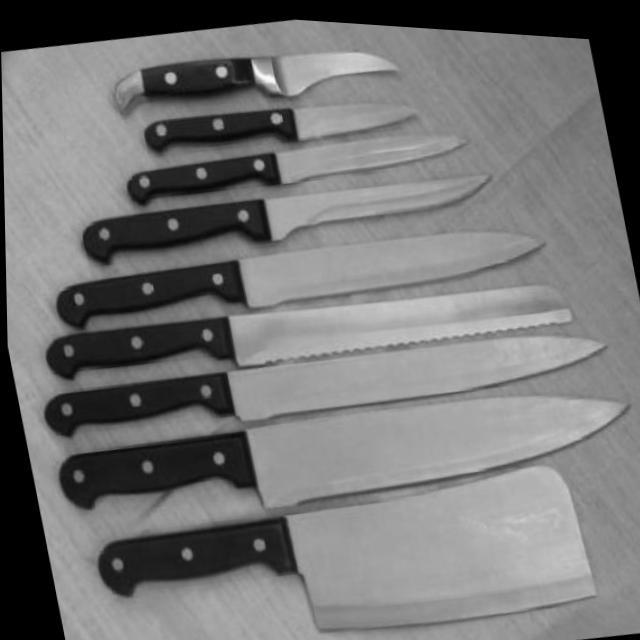weapon: (46, 341, 640, 559), (82, 426, 598, 640), (34, 285, 616, 471), (36, 239, 576, 414), (45, 186, 551, 354), (73, 142, 501, 286), (120, 102, 474, 221), (105, 15, 402, 128), (138, 70, 420, 169)
